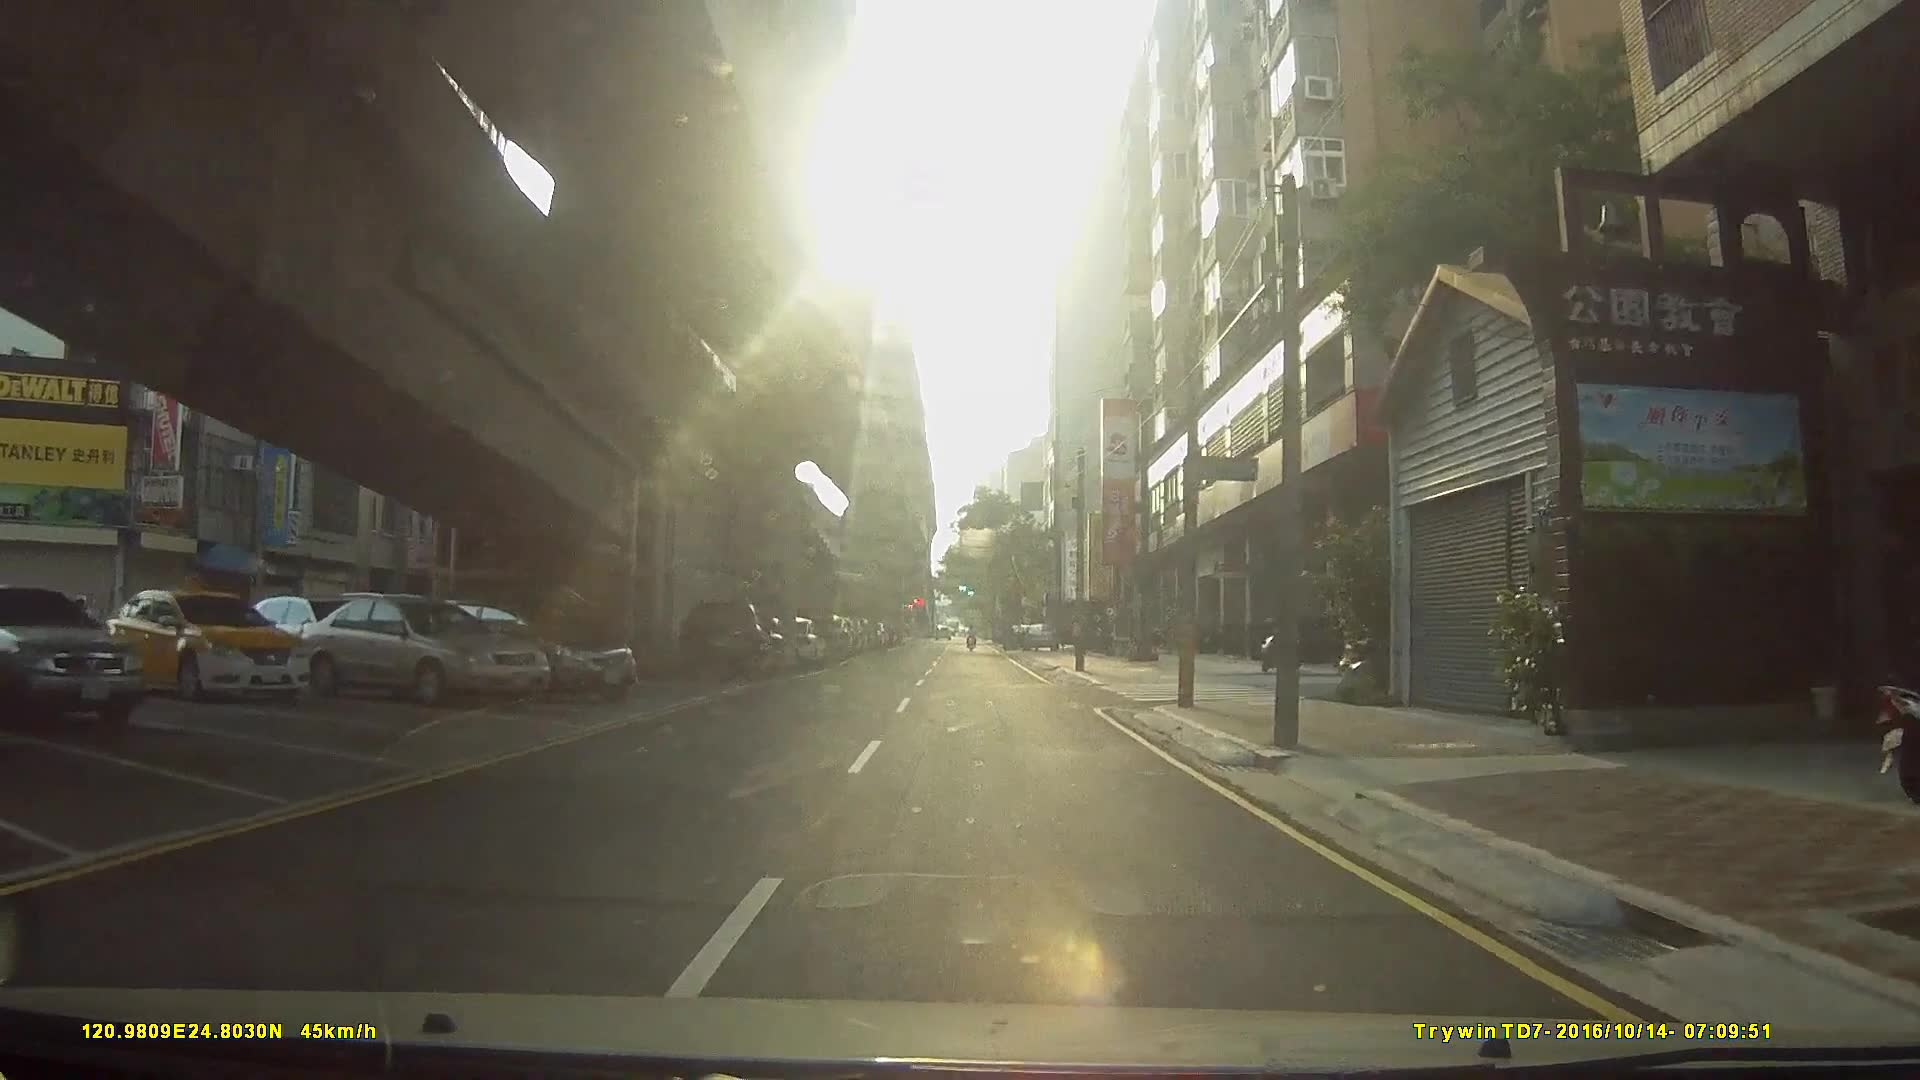vehicle: (293, 593, 551, 705), (390, 597, 640, 704), (103, 587, 309, 700), (4, 584, 145, 729), (676, 596, 773, 678)
